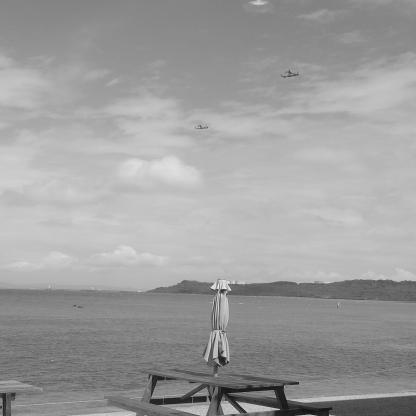V22: (281, 68, 301, 79), (196, 125, 212, 131)
